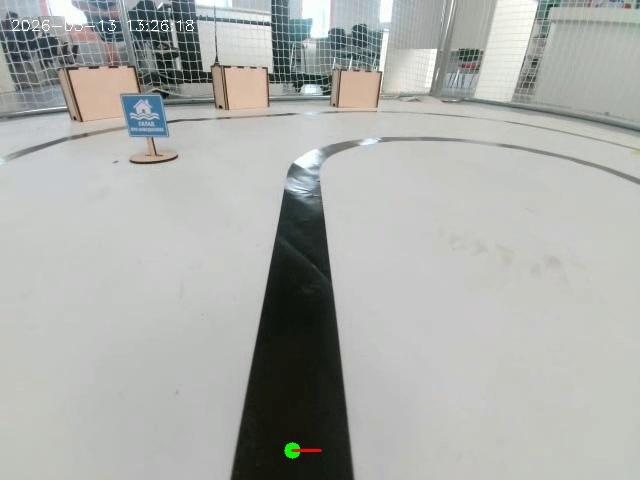flood: (114, 77, 180, 186)
